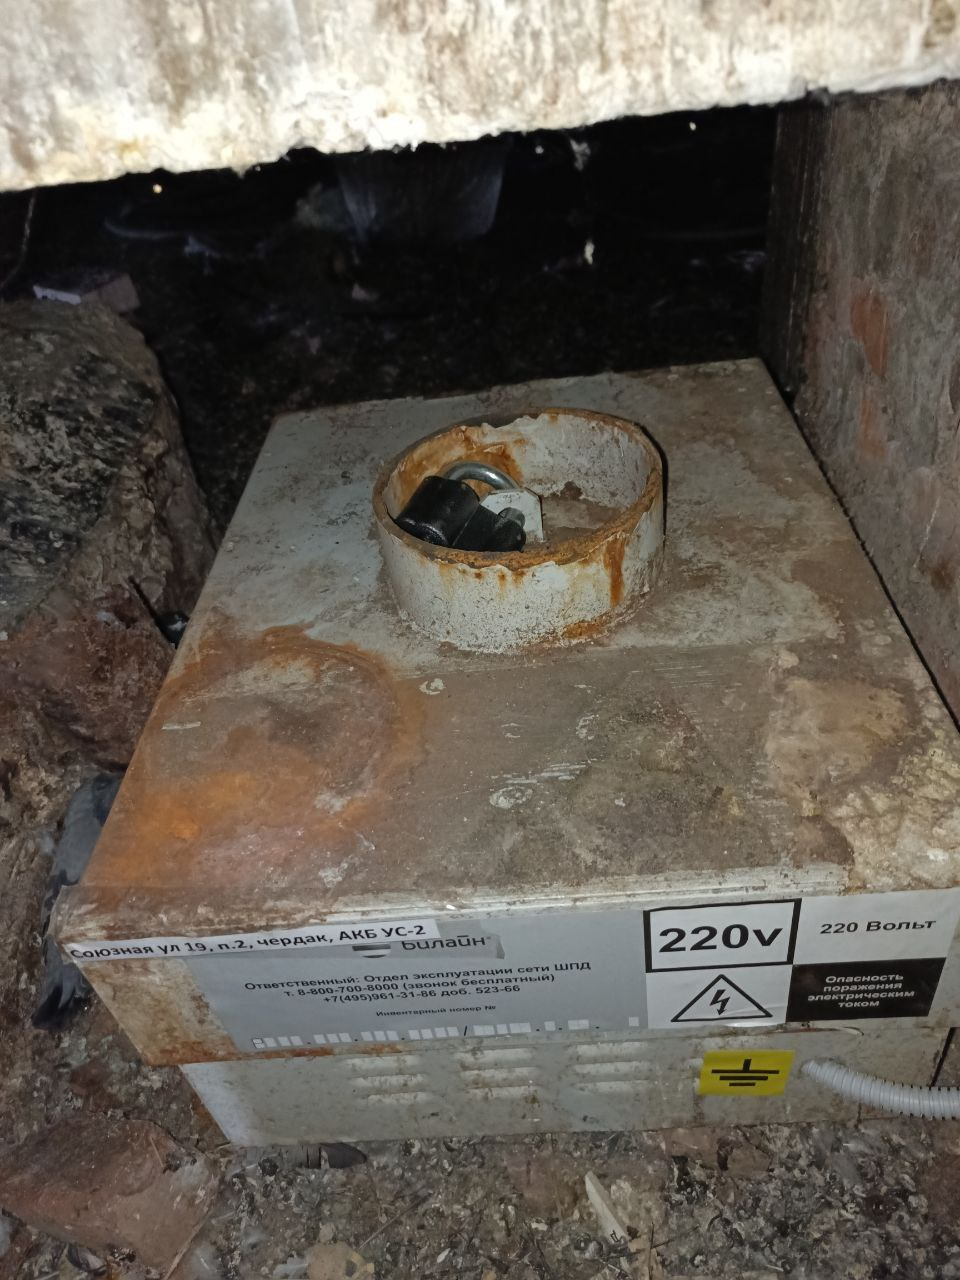shta-ps: (45, 347, 956, 1153)
